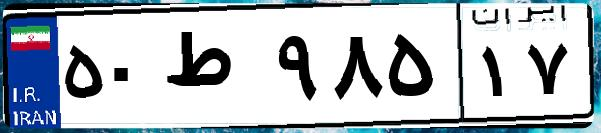0: (110, 28, 158, 98)
1: (475, 38, 525, 113)
5: (385, 28, 445, 110), (57, 26, 110, 100)
7: (525, 38, 570, 115)
8: (330, 28, 385, 110)
9: (270, 28, 330, 110)
ط: (158, 20, 270, 120)
